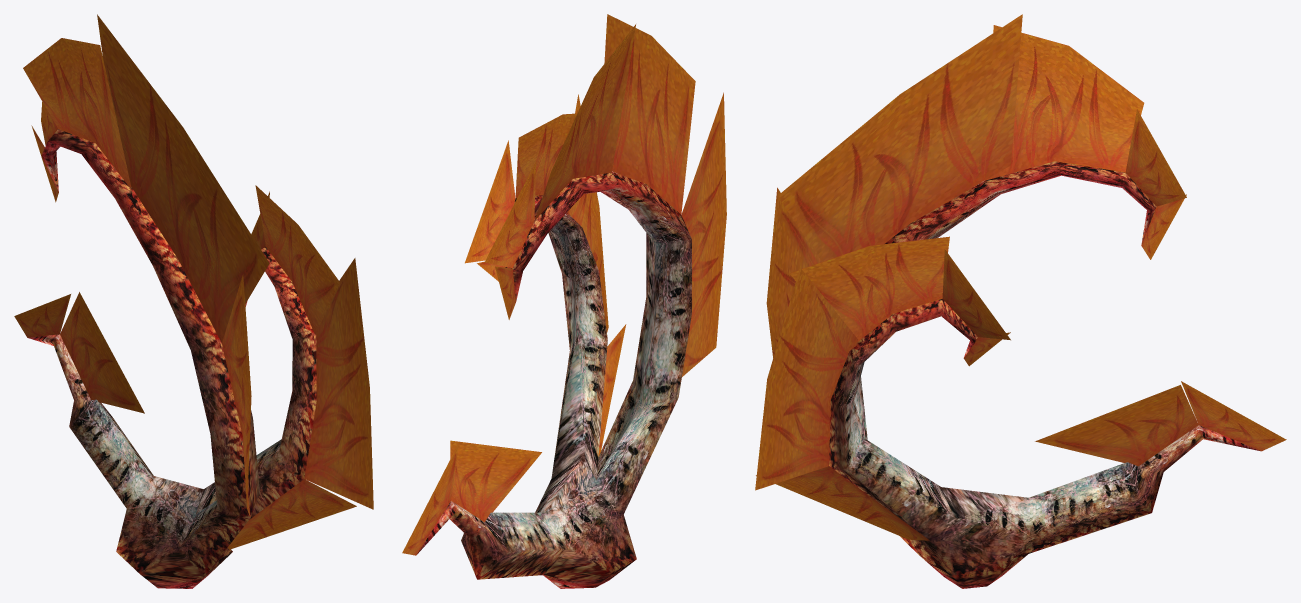
Rendered from leaf_tals_razorcoil_l0.fbx.
3 views of the same model, side by side, from view 1: azimuth 30°, elevation 25°; view 2: azimuth 150°, elevation 25°; view 3: azimuth 270°, elevation 25° (orthographic). The views are drawn at different scales.
Parts seen in each view (by area): view 1: mesh_node; view 2: mesh_node; view 3: mesh_node.
Boxes of the visible parts, x1,y1,x2,y2 form: mesh_node: (14, 14, 373, 588); mesh_node: (402, 14, 726, 588); mesh_node: (755, 14, 1286, 588).
Size of the model in its own units: 0.7335 by 2.53 by 2.27.
